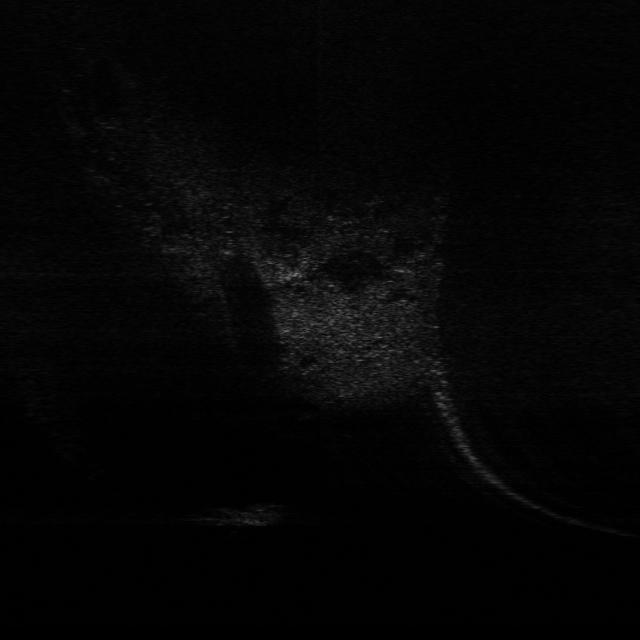cube: (204, 502, 290, 528)
